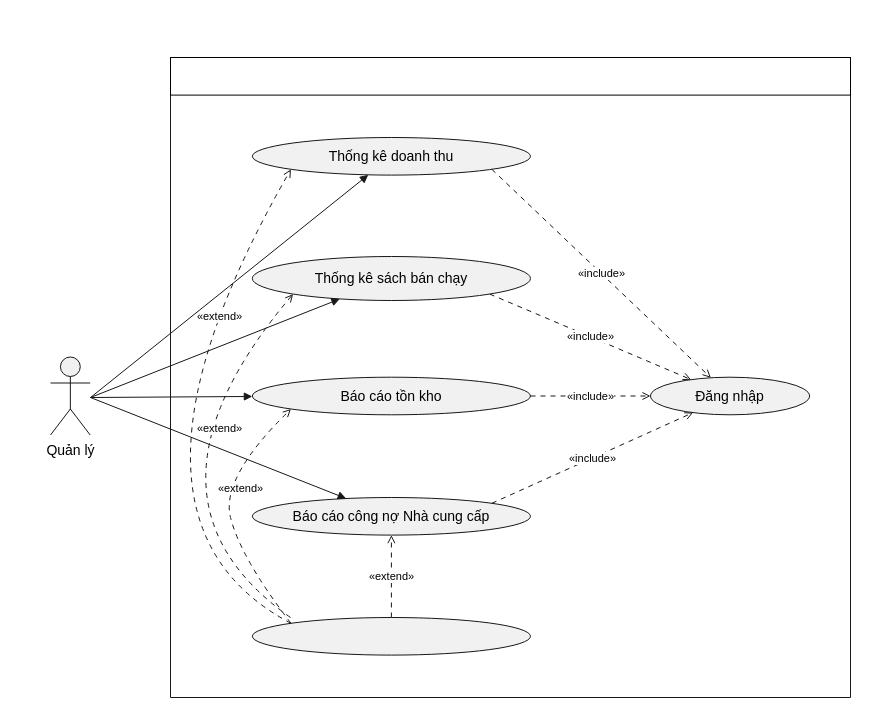
This 869x715 diagram has some shape labels left out. Each missing label, with the box of its shape:
Thống kê - Báo cáo: (170, 56, 850, 95)
Xuất file báo cáo / In ấn: (251, 616, 530, 655)
